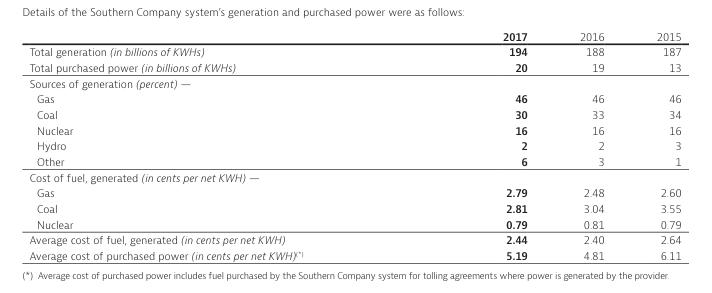table: (28, 29, 680, 262)
table column: (28, 29, 402, 262), (402, 29, 552, 262), (552, 29, 629, 262), (629, 29, 680, 262)
table column header: (28, 29, 680, 43)
table projected row header: (28, 75, 680, 90), (28, 169, 680, 184)
table row: (28, 43, 680, 59), (28, 59, 680, 75), (28, 90, 680, 106), (28, 106, 680, 122), (28, 137, 680, 153), (28, 153, 680, 169), (28, 184, 680, 200), (28, 200, 680, 216), (28, 231, 680, 247), (28, 75, 680, 90), (28, 122, 680, 137), (28, 169, 680, 184), (28, 216, 680, 231), (28, 247, 680, 262), (28, 29, 680, 43)
